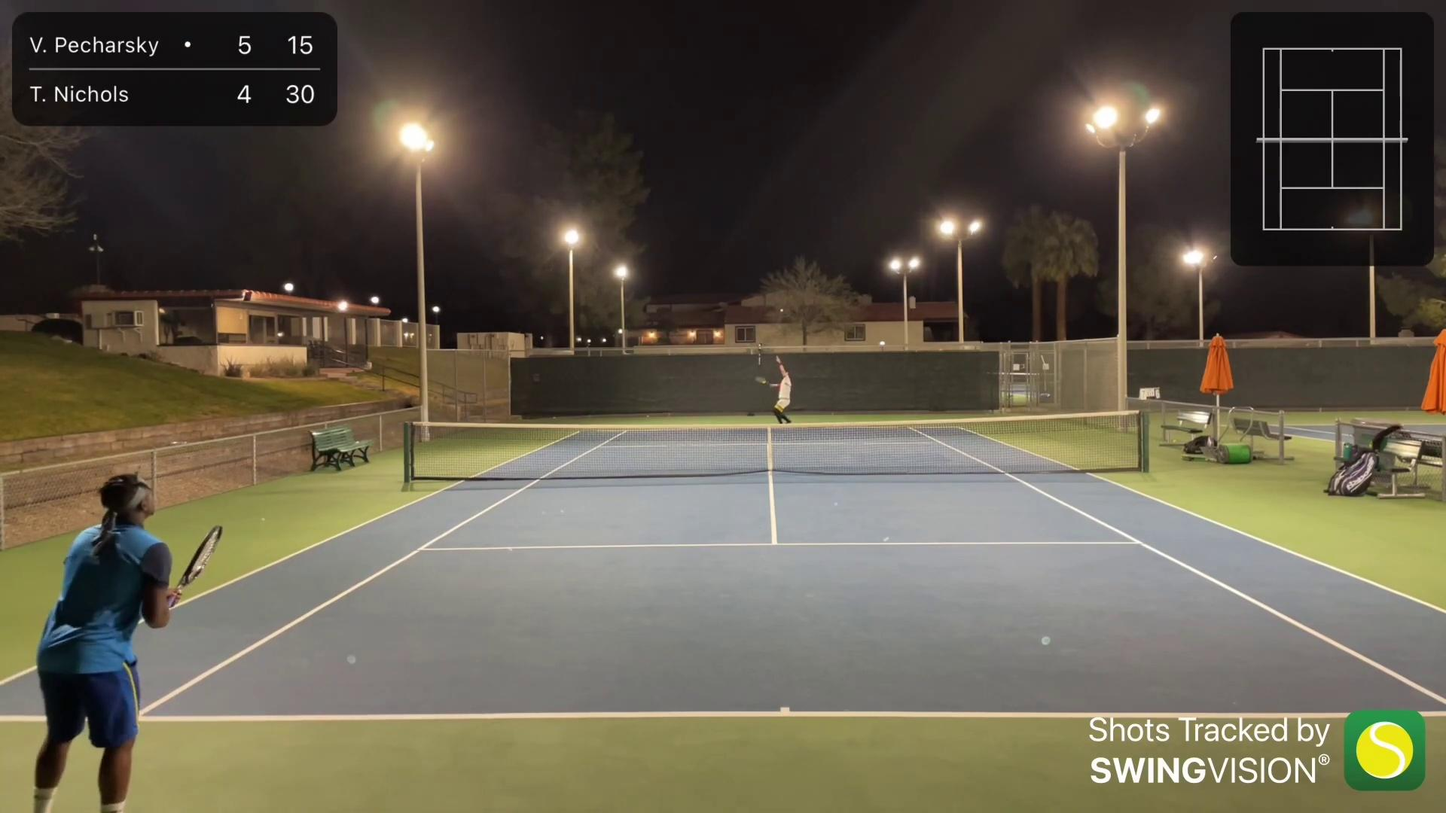ball: (778, 308, 785, 313)
